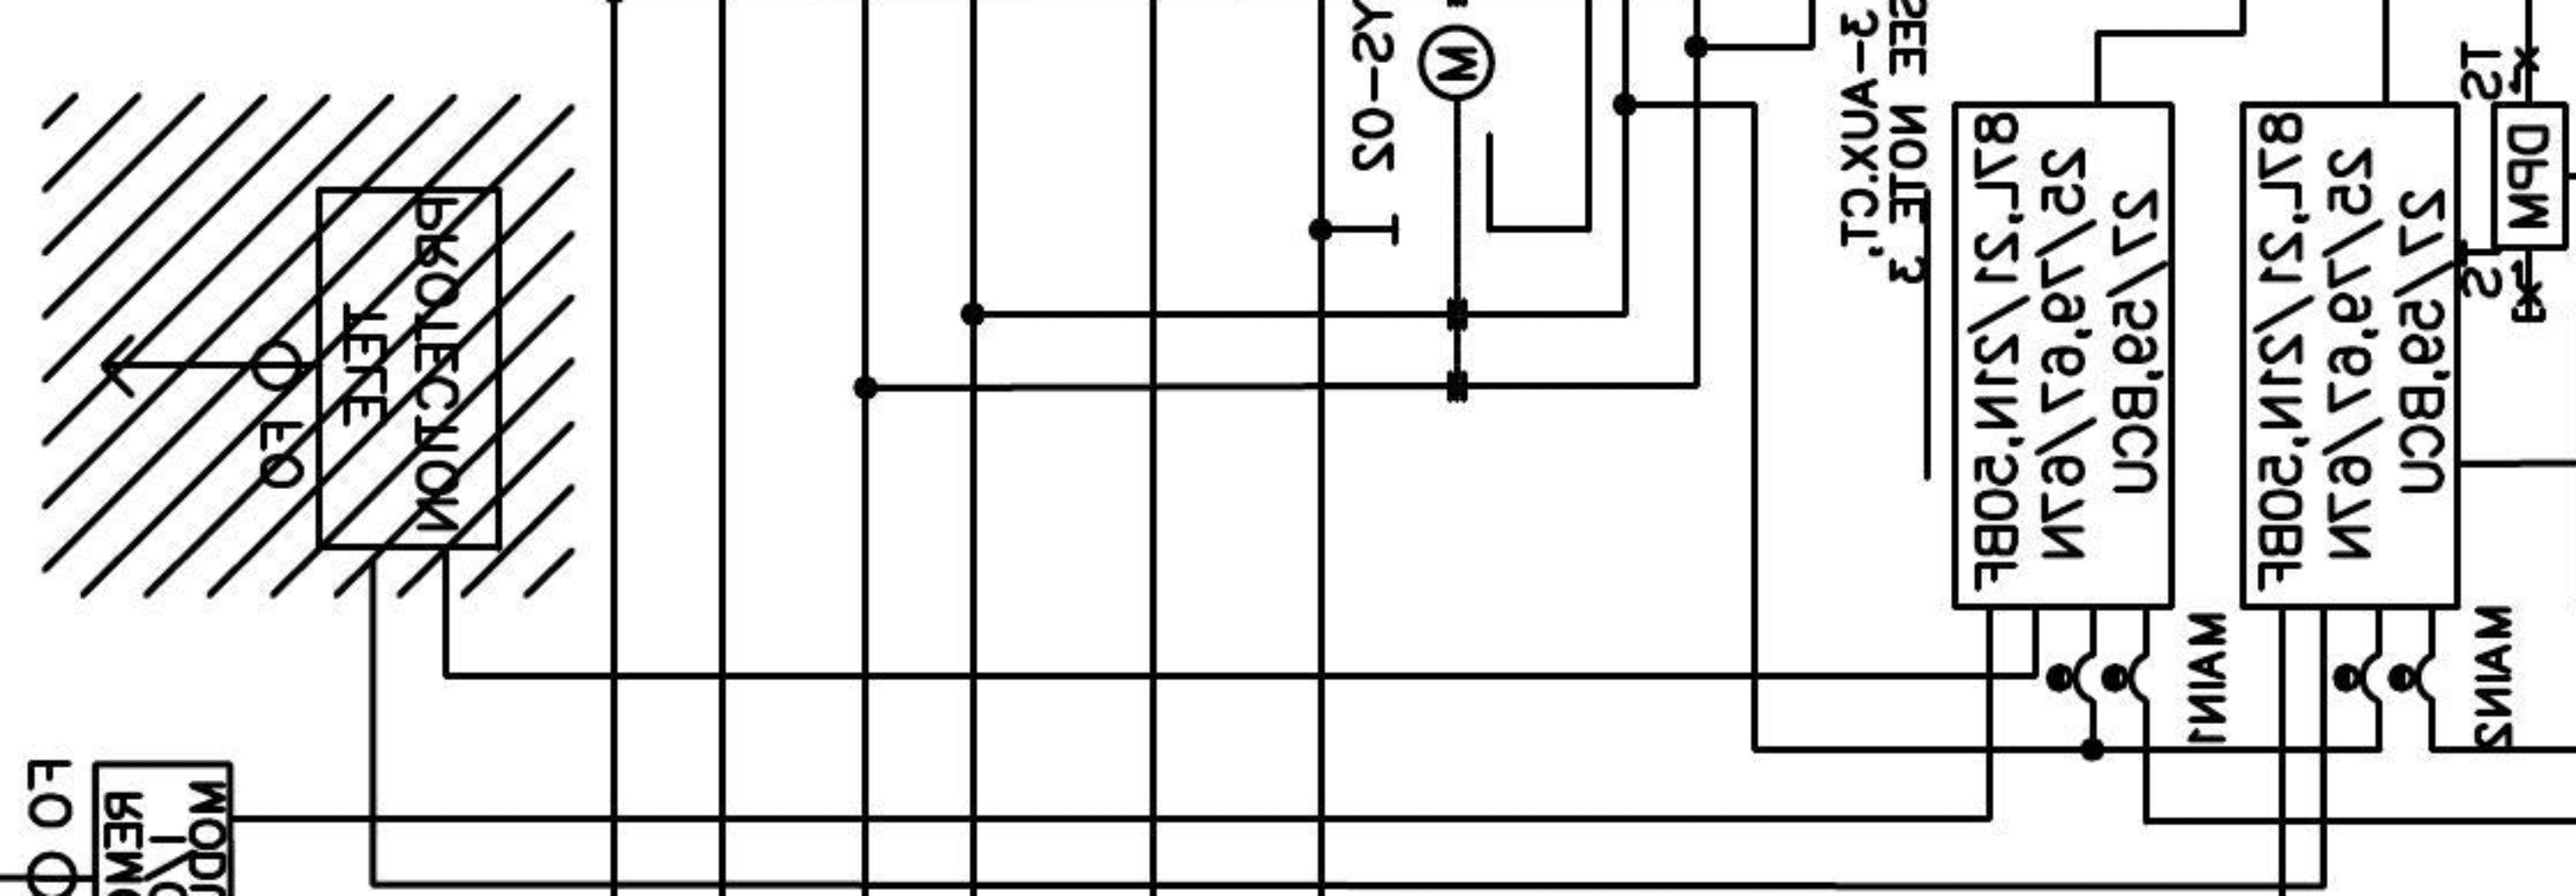115_1way_ds_w_motor: (1388, 21, 1497, 248)
DPM: (2487, 97, 2573, 255)
tele_protection: (310, 179, 511, 556)
